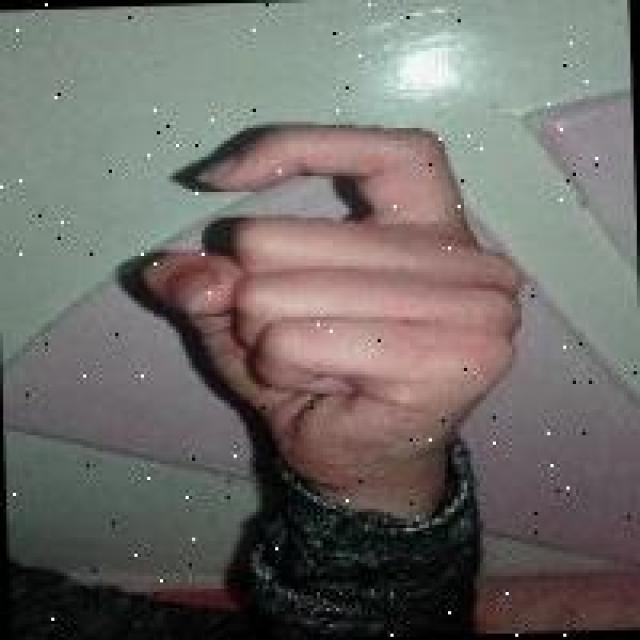X: (136, 109, 533, 477)
